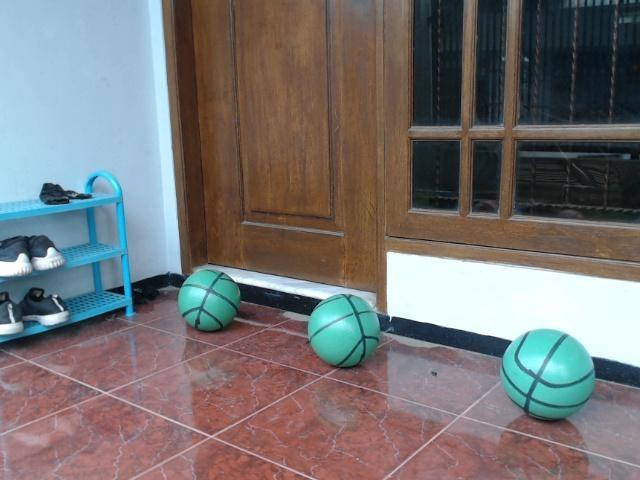Sports-Ball: (501, 332, 601, 423), (306, 293, 381, 369), (175, 266, 241, 335)
